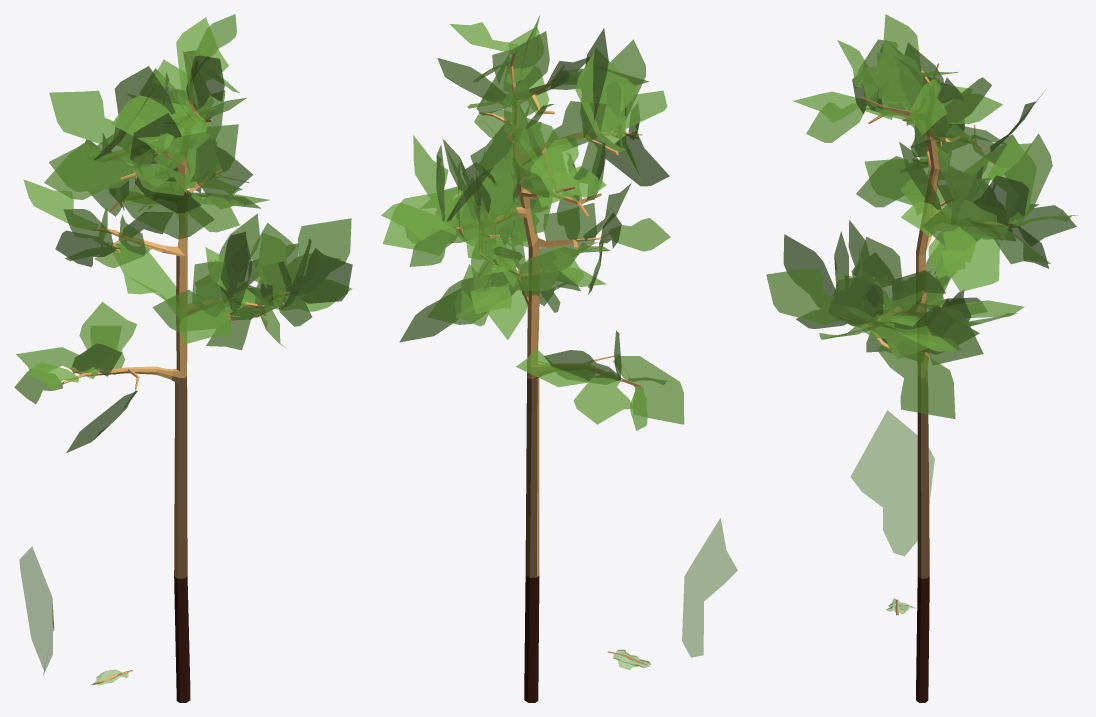
Rendered from pine-joined.fbx.
3 renders of one model, left to right at view 1: azimuth 30°, elevation 25°; view 2: azimuth 150°, elevation 25°; view 3: azimuth 270°, elevation 25°, orthographic.
Visible parts, largest first — view 1: Cube, TexturesCom_Leaves0142_4_masked_S, Cube|TexturesCom_Leaves0142_4_masked_S|Dupli|59, Cube|TexturesCom_Leaves0142_4_masked_S|Dupli|72, Cube|TexturesCom_Leaves0142_4_masked_S|Dupli|5, Cube|TexturesCom_Leaves0142_4_masked_S|Dupli|16, Cube|TexturesCom_Leaves0142_4_masked_S|Dupli|34, Cube|TexturesCom_Leaves0142_4_masked_S|Dupli|98, Cube|TexturesCom_Leaves0142_4_masked_S|Dupli|85, Cube|TexturesCom_Leaves0142_4_masked_S|Dupli|24, Cube|TexturesCom_Leaves0142_4_masked_S|Dupli|91, Cube|TexturesCom_Leaves0142_4_masked_S|Dupli|37 (+32 smaller); view 2: Cube, TexturesCom_Leaves0142_4_masked_S, Cube|TexturesCom_Leaves0142_4_masked_S|Dupli|42, Cube|TexturesCom_Leaves0142_4_masked_S|Dupli|99, Cube|TexturesCom_Leaves0142_4_masked_S|Dupli|77, Cube|TexturesCom_Leaves0142_4_masked_S|Dupli|40, Cube|TexturesCom_Leaves0142_4_masked_S|Dupli|2, Cube|TexturesCom_Leaves0142_4_masked_S|Dupli|34, Cube|TexturesCom_Leaves0142_4_masked_S|Dupli|43, Cube|TexturesCom_Leaves0142_4_masked_S|Dupli|79, Cube|TexturesCom_Leaves0142_4_masked_S|Dupli|63, Cube|TexturesCom_Leaves0142_4_masked_S|Dupli|33 (+30 smaller); view 3: Cube, TexturesCom_Leaves0142_4_masked_S, Cube|TexturesCom_Leaves0142_4_masked_S|Dupli|94, Cube|TexturesCom_Leaves0142_4_masked_S|Dupli|5, Cube|TexturesCom_Leaves0142_4_masked_S|Dupli|49, Cube|TexturesCom_Leaves0142_4_masked_S|Dupli|17, Cube|TexturesCom_Leaves0142_4_masked_S|Dupli|62, Cube|TexturesCom_Leaves0142_4_masked_S|Dupli|64, Cube|TexturesCom_Leaves0142_4_masked_S|Dupli|90, Cube|TexturesCom_Leaves0142_4_masked_S|Dupli|71, Cube|TexturesCom_Leaves0142_4_masked_S|Dupli|16, Cube|TexturesCom_Leaves0142_4_masked_S|Dupli|70 (+26 smaller).
Part boxes in pixels (<box>): Cube: <box>14,14,352,702</box>; TexturesCom_Leaves0142_4_masked_S: <box>19,546,54,675</box>; Cube|TexturesCom_Leaves0142_4_masked_S|Dupli|59: <box>49,90,114,143</box>; Cube|TexturesCom_Leaves0142_4_masked_S|Dupli|72: <box>111,95,207,154</box>; Cube|TexturesCom_Leaves0142_4_masked_S|Dupli|5: <box>297,248,352,303</box>; Cube|TexturesCom_Leaves0142_4_masked_S|Dupli|16: <box>123,191,213,238</box>; Cube|TexturesCom_Leaves0142_4_masked_S|Dupli|34: <box>44,143,133,199</box>; Cube|TexturesCom_Leaves0142_4_masked_S|Dupli|98: <box>298,218,351,261</box>; Cube|TexturesCom_Leaves0142_4_masked_S|Dupli|85: <box>120,252,175,300</box>; Cube|TexturesCom_Leaves0142_4_masked_S|Dupli|24: <box>251,233,286,306</box>; Cube|TexturesCom_Leaves0142_4_masked_S|Dupli|91: <box>192,261,230,317</box>; Cube|TexturesCom_Leaves0142_4_masked_S|Dupli|37: <box>49,140,134,191</box>; Cube: <box>381,16,684,702</box>; TexturesCom_Leaves0142_4_masked_S: <box>682,518,737,657</box>; Cube|TexturesCom_Leaves0142_4_masked_S|Dupli|42: <box>575,53,636,152</box>; Cube|TexturesCom_Leaves0142_4_masked_S|Dupli|99: <box>613,356,683,424</box>; Cube|TexturesCom_Leaves0142_4_masked_S|Dupli|77: <box>476,31,549,115</box>; Cube|TexturesCom_Leaves0142_4_masked_S|Dupli|40: <box>530,138,578,206</box>; Cube|TexturesCom_Leaves0142_4_masked_S|Dupli|2: <box>574,377,630,424</box>; Cube|TexturesCom_Leaves0142_4_masked_S|Dupli|34: <box>594,131,668,185</box>; Cube|TexturesCom_Leaves0142_4_masked_S|Dupli|43: <box>512,247,578,291</box>; Cube|TexturesCom_Leaves0142_4_masked_S|Dupli|79: <box>474,109,558,173</box>; Cube|TexturesCom_Leaves0142_4_masked_S|Dupli|63: <box>383,189,466,249</box>; Cube|TexturesCom_Leaves0142_4_masked_S|Dupli|33: <box>479,172,518,251</box>; Cube: <box>766,15,1077,702</box>; TexturesCom_Leaves0142_4_masked_S: <box>850,410,934,556</box>; Cube|TexturesCom_Leaves0142_4_masked_S|Dupli|94: <box>877,342,955,418</box>; Cube|TexturesCom_Leaves0142_4_masked_S|Dupli|5: <box>767,269,839,323</box>; Cube|TexturesCom_Leaves0142_4_masked_S|Dupli|49: <box>937,124,988,196</box>; Cube|TexturesCom_Leaves0142_4_masked_S|Dupli|17: <box>877,53,922,109</box>; Cube|TexturesCom_Leaves0142_4_masked_S|Dupli|62: <box>946,238,999,291</box>; Cube|TexturesCom_Leaves0142_4_masked_S|Dupli|64: <box>1004,134,1052,224</box>; Cube|TexturesCom_Leaves0142_4_masked_S|Dupli|90: <box>900,302,983,363</box>; Cube|TexturesCom_Leaves0142_4_masked_S|Dupli|71: <box>922,200,1008,246</box>; Cube|TexturesCom_Leaves0142_4_masked_S|Dupli|16: <box>856,156,929,207</box>; Cube|TexturesCom_Leaves0142_4_masked_S|Dupli|70: <box>973,175,1028,227</box>.
Bounding box in the file's own units: 5465 × 11708 × 5070.
